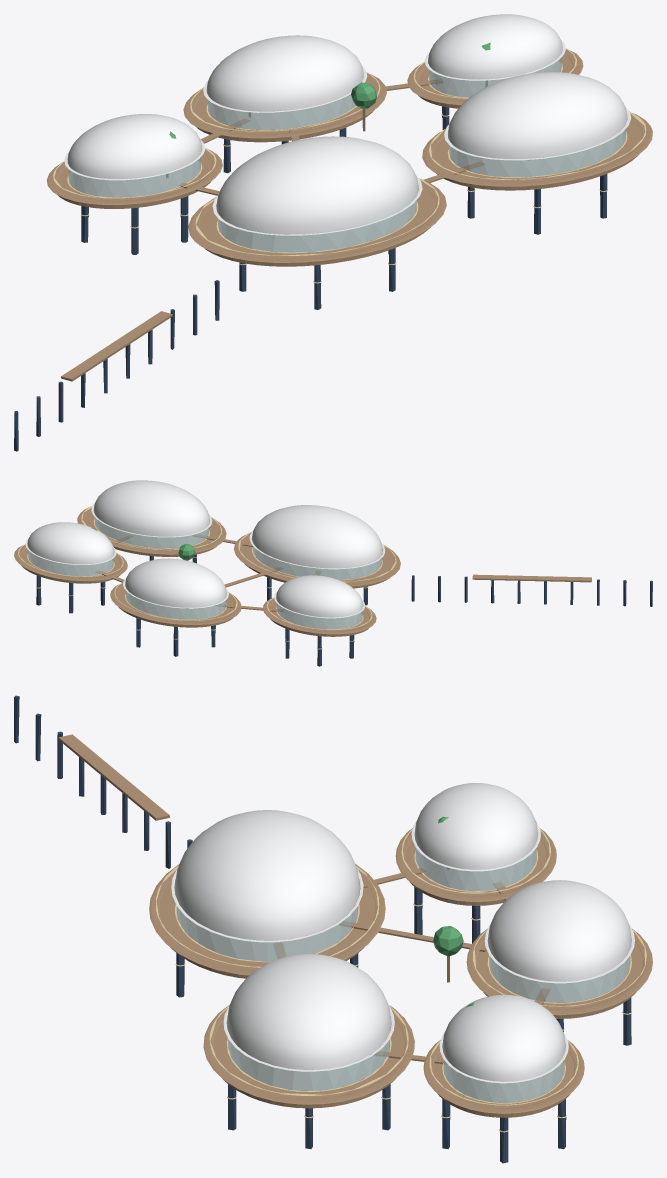
File: reef-station.glb
3 renders of one model, top to bottom at view 1: azimuth 30°, elevation 25°; view 2: azimuth 150°, elevation 25°; view 3: azimuth 270°, elevation 25°, orthographic. The views are drawn at different scales.
Parts seen in each view (by area): view 1: V2_StationWhite, V2_StationWood, V2_StationGlass, V2_StationPileNavy, V2_StationGold, V2_StationLeaf; view 2: V2_StationWhite, V2_StationWood, V2_StationGlass, V2_StationPileNavy, V2_StationGold; view 3: V2_StationWhite, V2_StationWood, V2_StationGlass, V2_StationPileNavy, V2_StationGold, V2_StationLeaf.
Part boxes in pixels (x1,y1,x2,y2): V2_StationWhite: (64,14,630,235); V2_StationWood: (46,49,652,381); V2_StationGlass: (68,57,625,252); V2_StationPileNavy: (14,106,607,451); V2_StationGold: (53,48,646,283); V2_StationLeaf: (169,42,490,138); V2_StationWhite: (25,480,385,618); V2_StationWood: (14,506,591,636); V2_StationGlass: (28,516,381,629); V2_StationPileNavy: (36,554,652,666); V2_StationGold: (18,506,396,649); V2_StationWhite: (171,783,634,1083); V2_StationWood: (58,734,652,1117); V2_StationGlass: (176,848,630,1102); V2_StationPileNavy: (14,695,631,1163); V2_StationGold: (156,829,646,1132); V2_StationLeaf: (433,816,474,1007).
Size of the model in its own units: 149 by 22.8 by 91.77.
